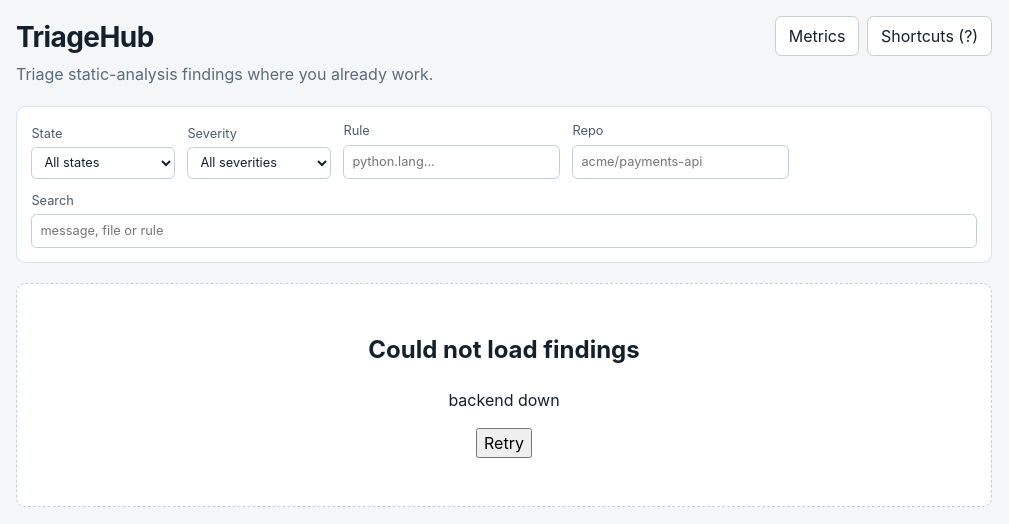
it: TriageHub console › shows an error state with a working retry
Expected: the message shows "backend down", x1=448 y1=390 x2=560 y2=410
Click the button "Retry". click: (504, 443)
box: x1=476 y1=428 x2=532 y2=458
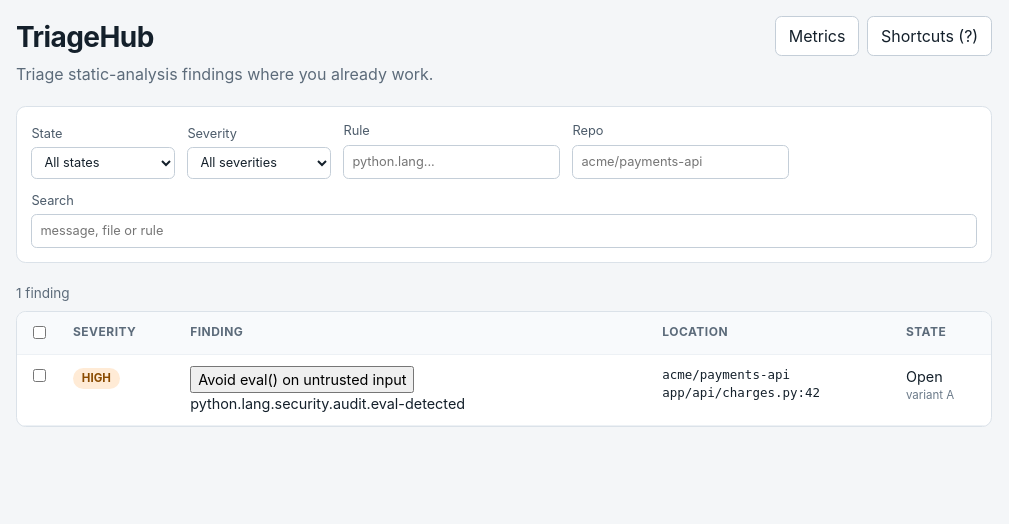
Expected: the button "Avoid eval() on untrusted input" is shown, x1=190 y1=366 x2=414 y2=393
